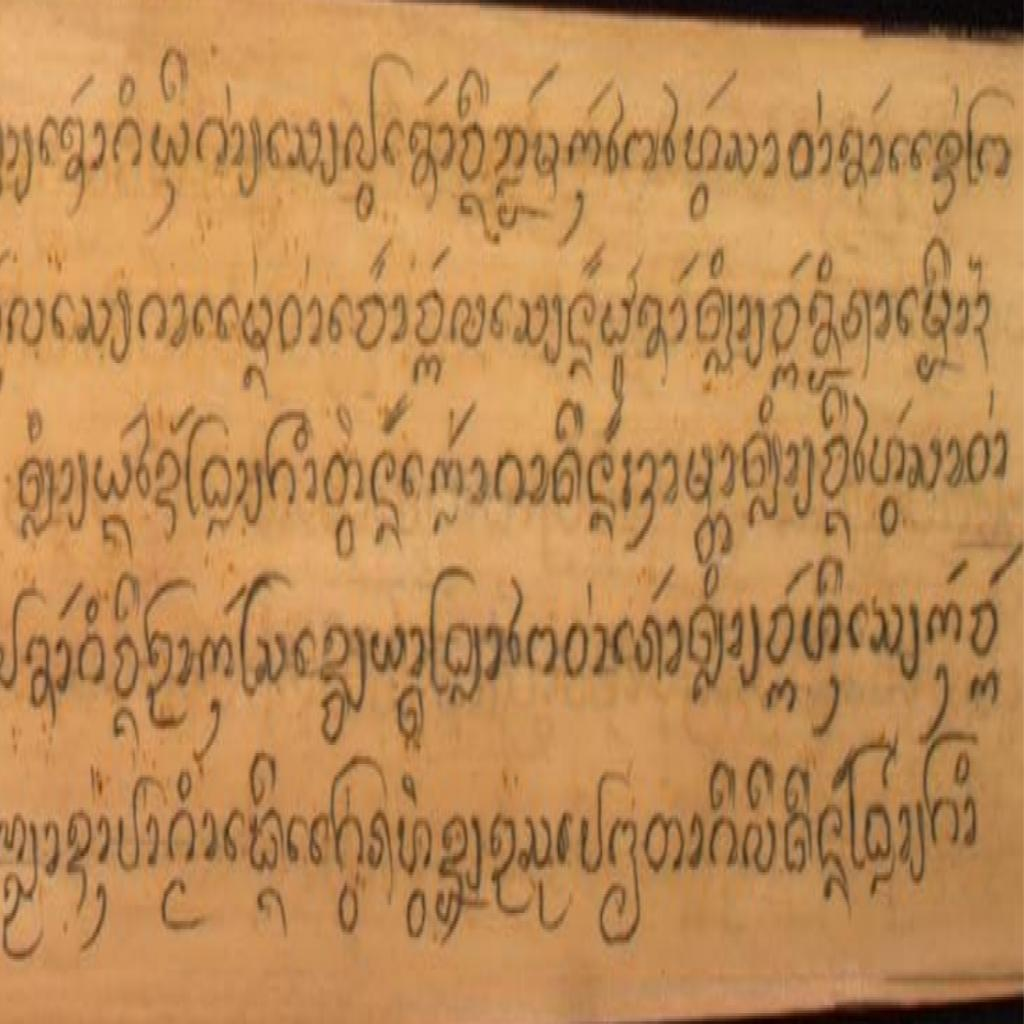LN019: (643, 807, 688, 880)
LN025: (579, 787, 605, 881)
LN034: (741, 811, 779, 882)
LN038: (517, 813, 555, 878)
